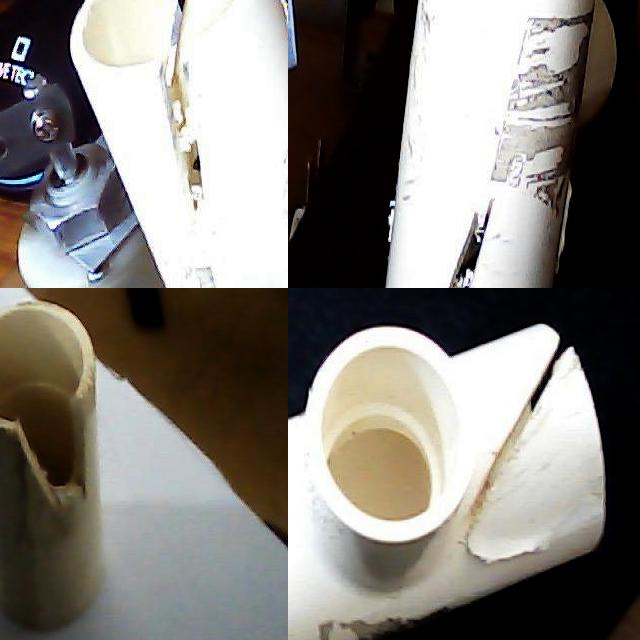Defective: (464, 318, 594, 594), (494, 0, 579, 277), (165, 0, 225, 231), (415, 164, 501, 288), (14, 400, 96, 510), (307, 612, 446, 640)
T Joint: (383, 0, 617, 288), (384, 0, 615, 288), (67, 0, 288, 288), (0, 301, 106, 636)
